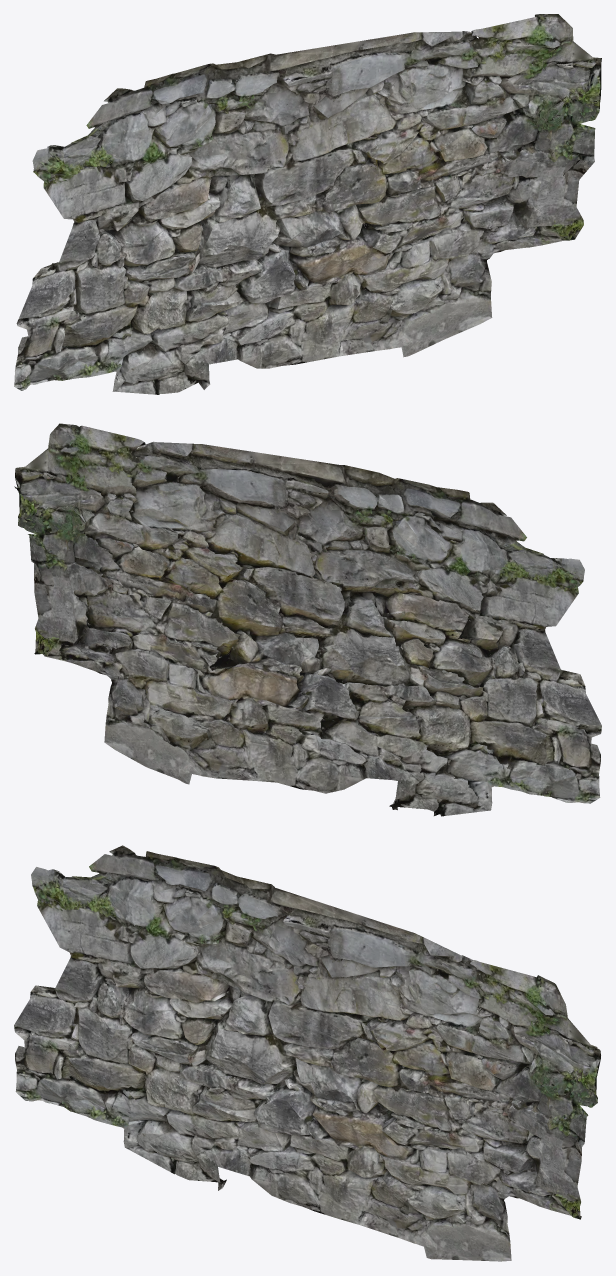
Rendered from wall1.glb.
3 views of the same model, one above another, from view 1: azimuth 30°, elevation 25°; view 2: azimuth 150°, elevation 25°; view 3: azimuth 330°, elevation 25° (orthographic).
Parts seen in each view (by area): view 1: Object_2; view 2: Object_2; view 3: Object_2.
Part boxes in pixels (box(x1,y1,x2,y2)): Object_2: box(14, 14, 601, 394); Object_2: box(14, 423, 601, 816); Object_2: box(14, 845, 600, 1261).
Bounding box in the file's own units: 15.12 × 8.63 × 1.55.
Materials: 1 (1 with a texture image).
